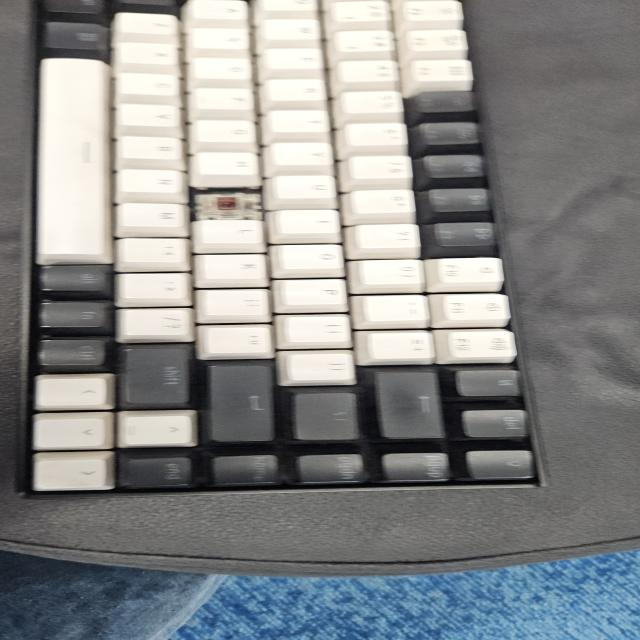C: (195, 193, 255, 217)
